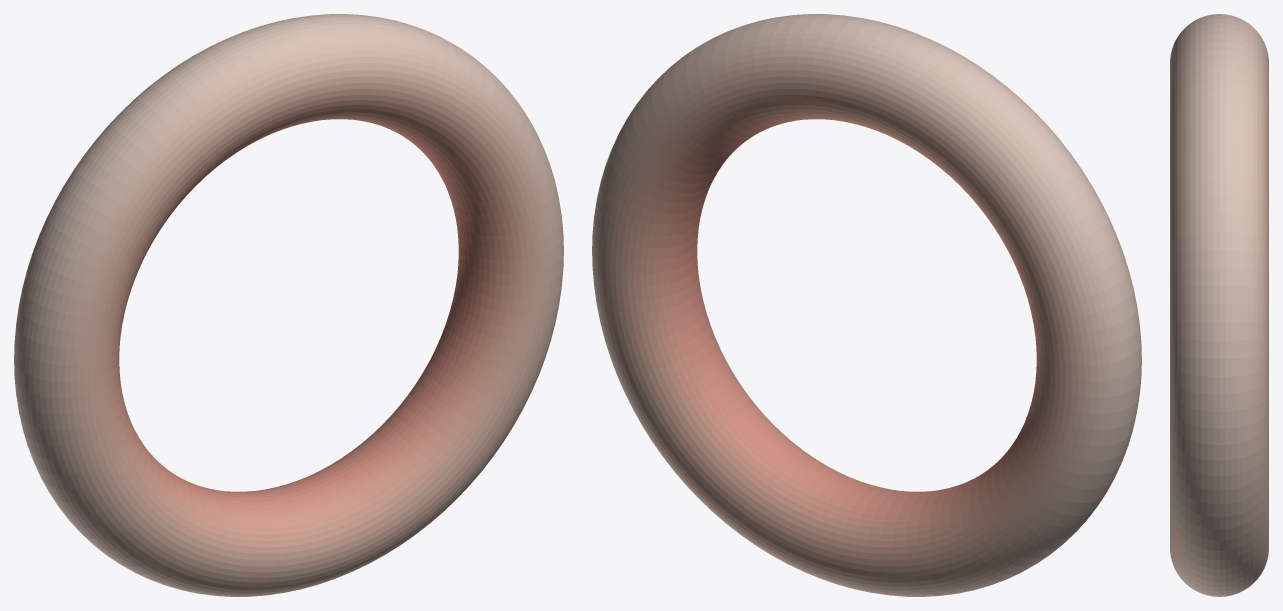
The picture shows the model from 3 angles, left to right: view 1: azimuth 30°, elevation 25°; view 2: azimuth 150°, elevation 25°; view 3: azimuth 270°, elevation 25°; orthographic projection. The views are drawn at different scales.
Visible parts, largest first — view 1: world; view 2: world; view 3: world.
Boxes of the visible parts, x1,y1,x2,y2 form: world: (14,14,563,596); world: (592,14,1141,596); world: (1170,14,1268,596).
Size of the model in its own units: 32.13 by 32.13 by 5.46.
